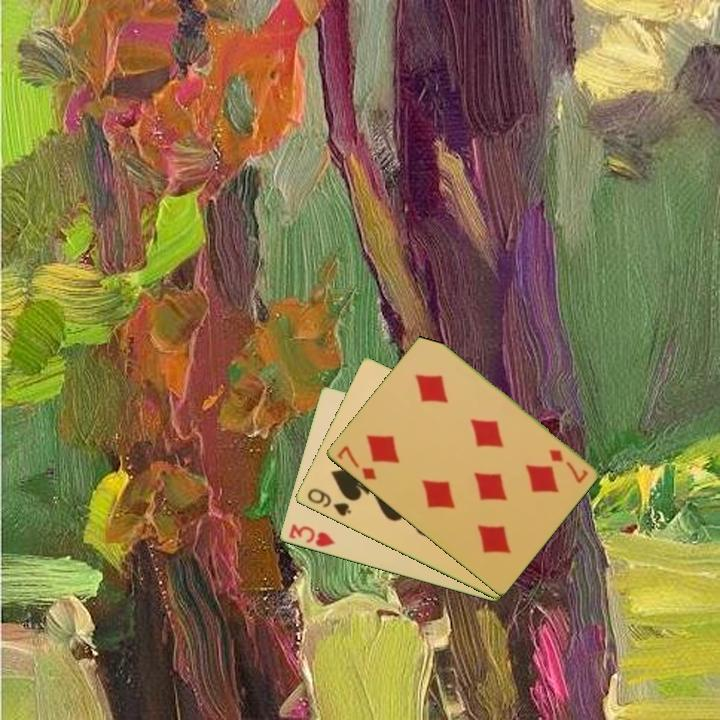3h: (285, 521, 337, 550)
7d: (333, 442, 379, 483), (545, 446, 591, 486)
9s: (303, 485, 354, 519)
